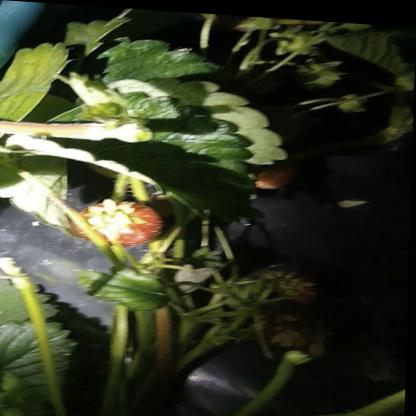ripe: (76, 196, 170, 248), (246, 154, 303, 188)
